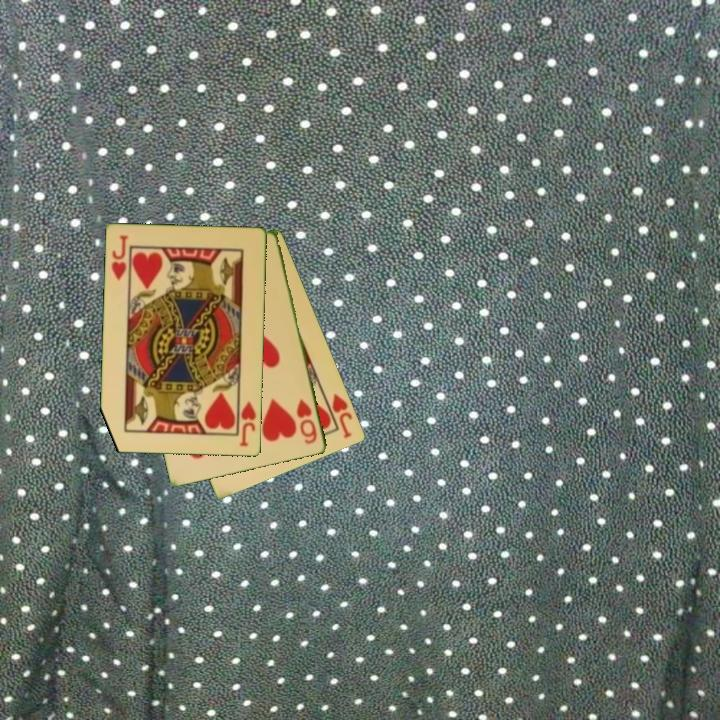6h: (293, 395, 320, 447)
Jh: (329, 390, 355, 441), (108, 232, 131, 284), (236, 398, 259, 449)
